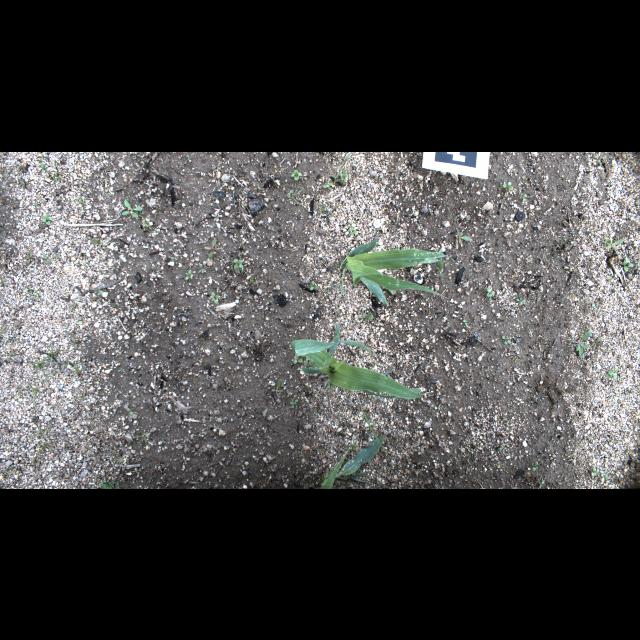crop: (291, 322, 431, 398), (341, 237, 457, 306), (321, 434, 383, 488)
weed: (570, 330, 590, 356), (284, 182, 304, 202), (202, 237, 220, 259), (34, 351, 58, 367), (124, 198, 142, 218), (602, 236, 624, 250), (616, 256, 634, 272), (454, 230, 472, 246), (270, 377, 284, 397), (99, 480, 123, 488), (290, 167, 302, 181), (34, 222, 50, 232), (590, 336, 602, 349), (19, 177, 31, 190), (30, 384, 42, 396), (362, 310, 374, 322), (210, 291, 220, 305), (70, 334, 78, 350), (606, 368, 618, 378), (232, 258, 244, 268), (44, 370, 56, 380), (198, 260, 206, 274), (502, 334, 512, 344), (42, 253, 52, 263), (293, 354, 303, 364), (326, 380, 336, 390), (184, 268, 192, 280), (502, 180, 514, 188), (26, 250, 32, 264), (531, 461, 539, 471), (348, 443, 358, 451), (126, 406, 134, 416), (289, 397, 299, 405), (310, 280, 318, 290), (348, 226, 358, 234), (54, 196, 64, 204), (44, 213, 50, 225), (138, 434, 146, 442), (486, 288, 494, 296), (538, 478, 544, 488), (521, 192, 527, 202), (76, 365, 80, 375), (118, 458, 124, 464), (77, 319, 83, 325), (116, 368, 124, 372)
